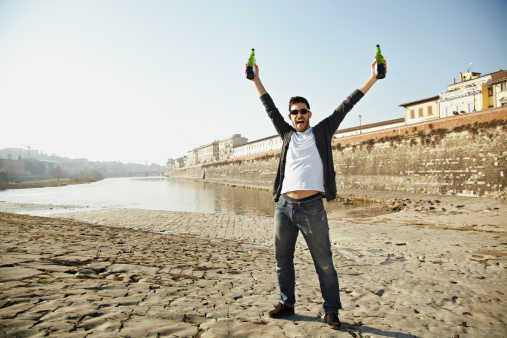em pe: (237, 62, 365, 319)
